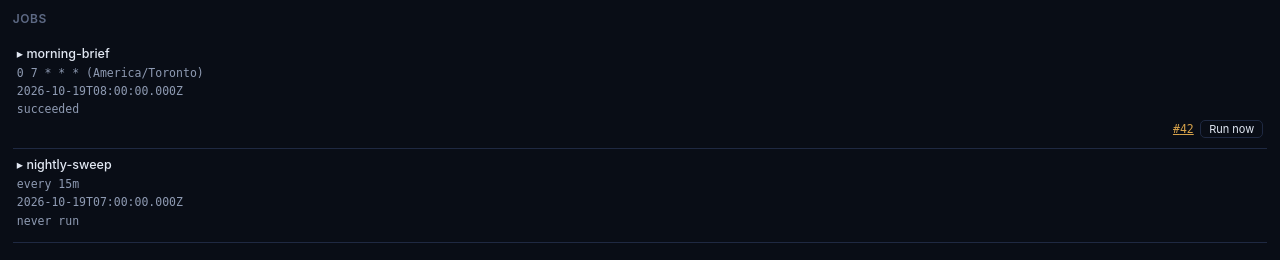
Test: JobsPanel › Run now renders only for write access and POSTs the run route
The image size is (1280, 260).
Click the button "Run now" at (1232, 129), box [1200,120,1263,138]
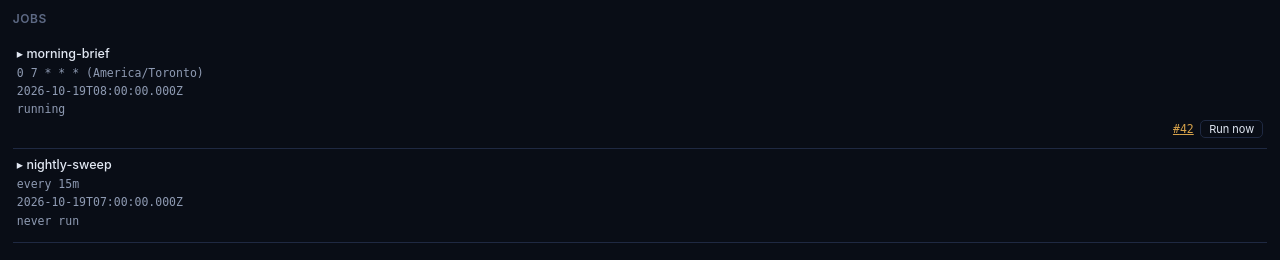
Expected: the text "running" is shown, [17,102,65,116]
